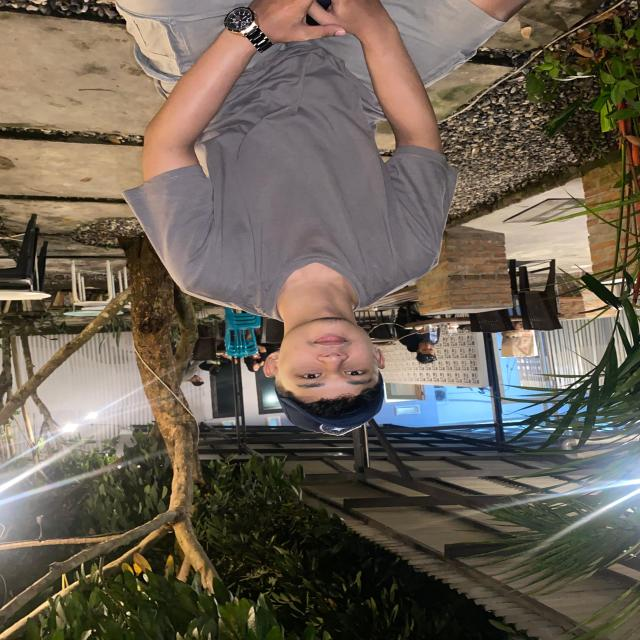nohelmet: (269, 315, 389, 440)
